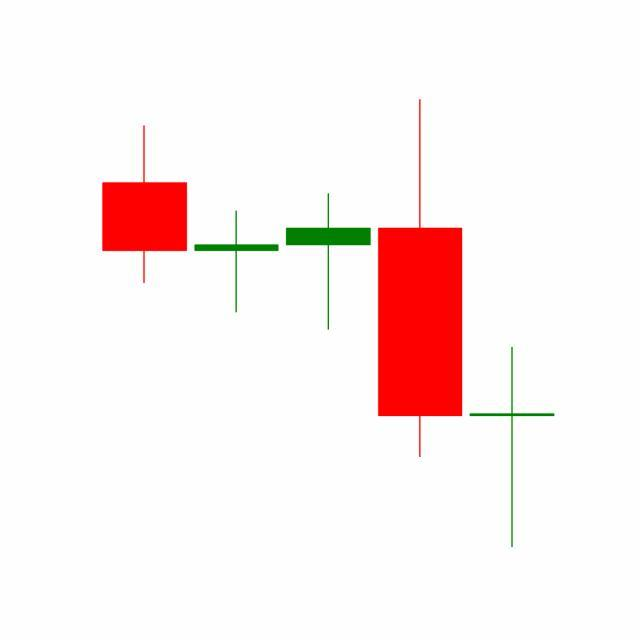Spinning Top: (466, 345, 559, 551)
